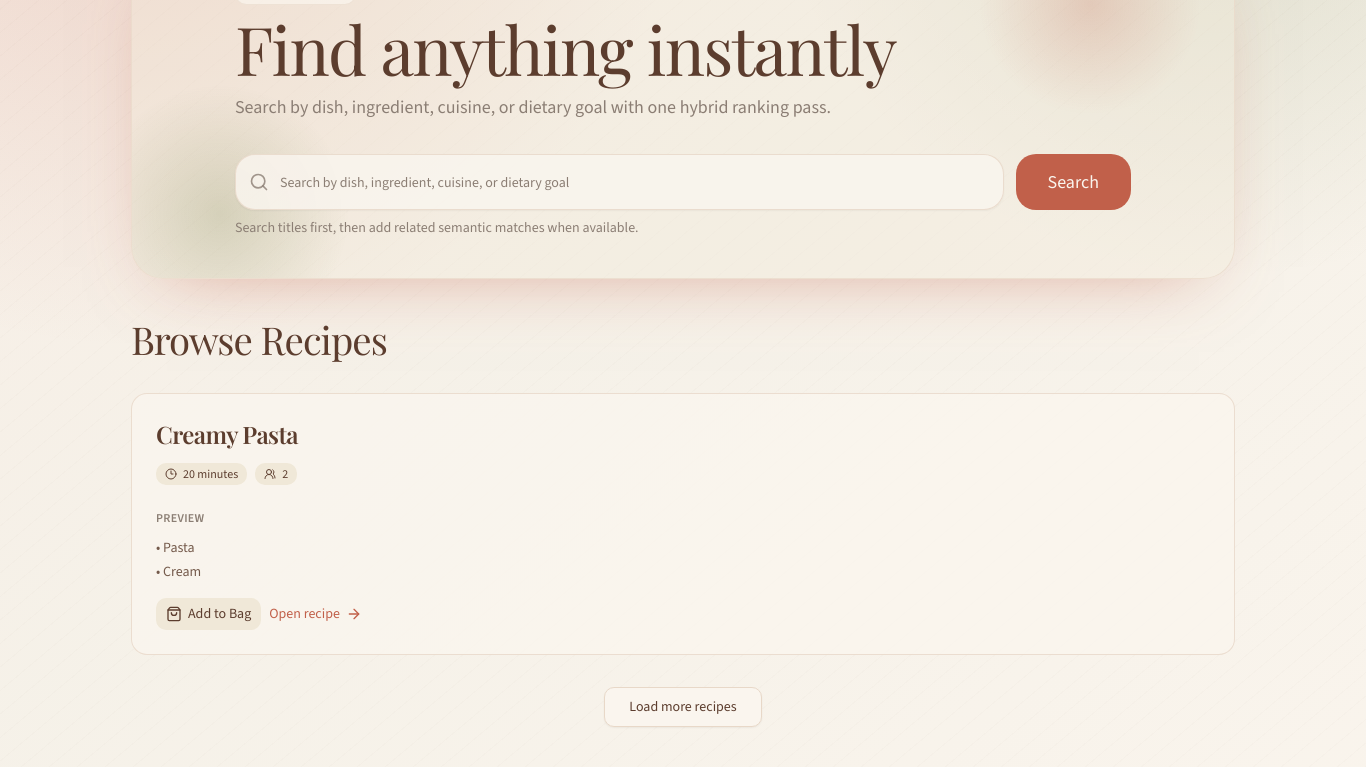
Scenario: /browse page › loads more recipes when browsing without query
(page scrolled)
Click the button "Load more recipes".
click(683, 707)  # box [604,687,762,727]
(page scrolled)
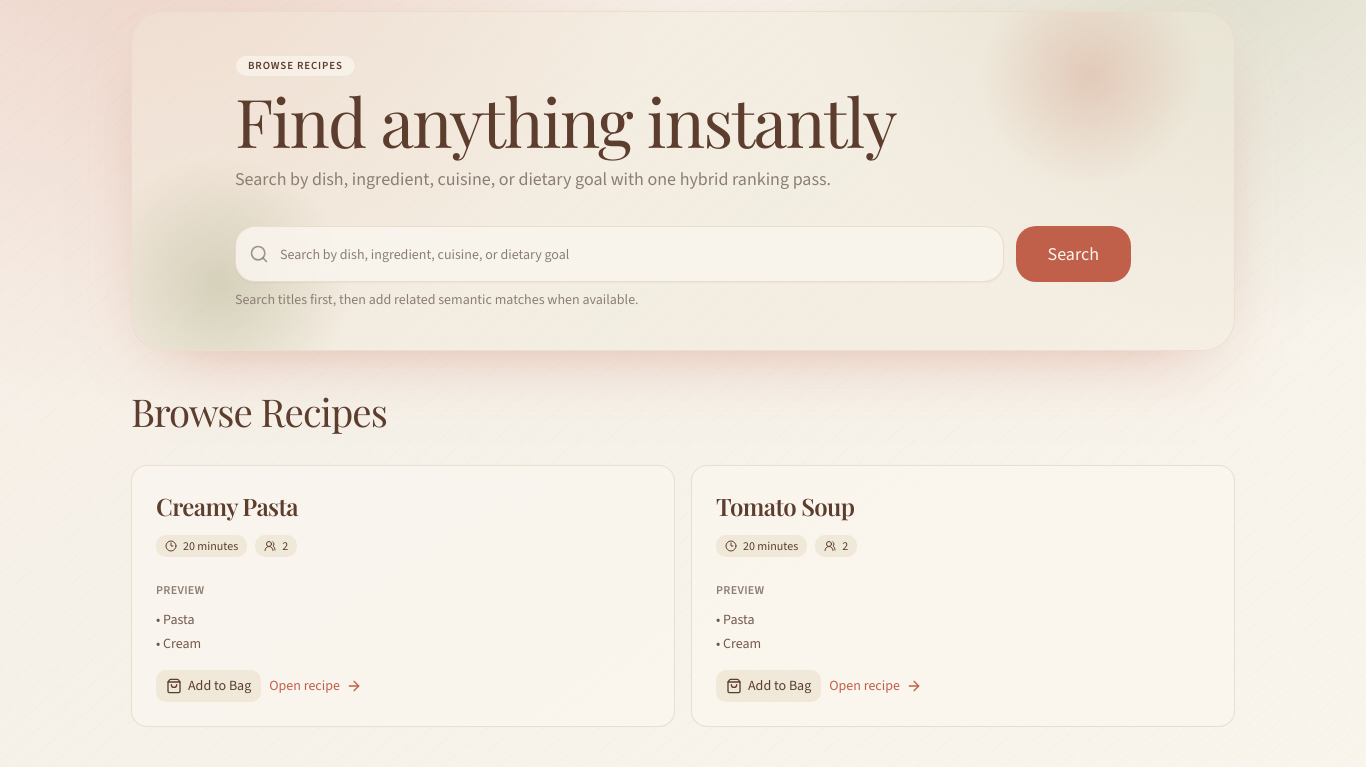
Expected: the button named "Open Tomato Soup" is shown, [692,466,1234,726]
